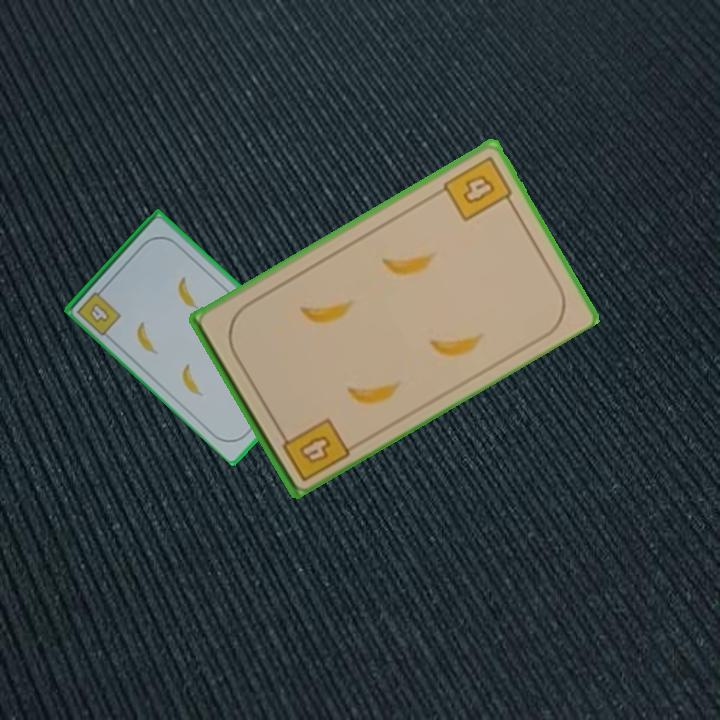4b: (439, 152, 518, 225), (274, 414, 352, 484), (73, 282, 124, 338)
